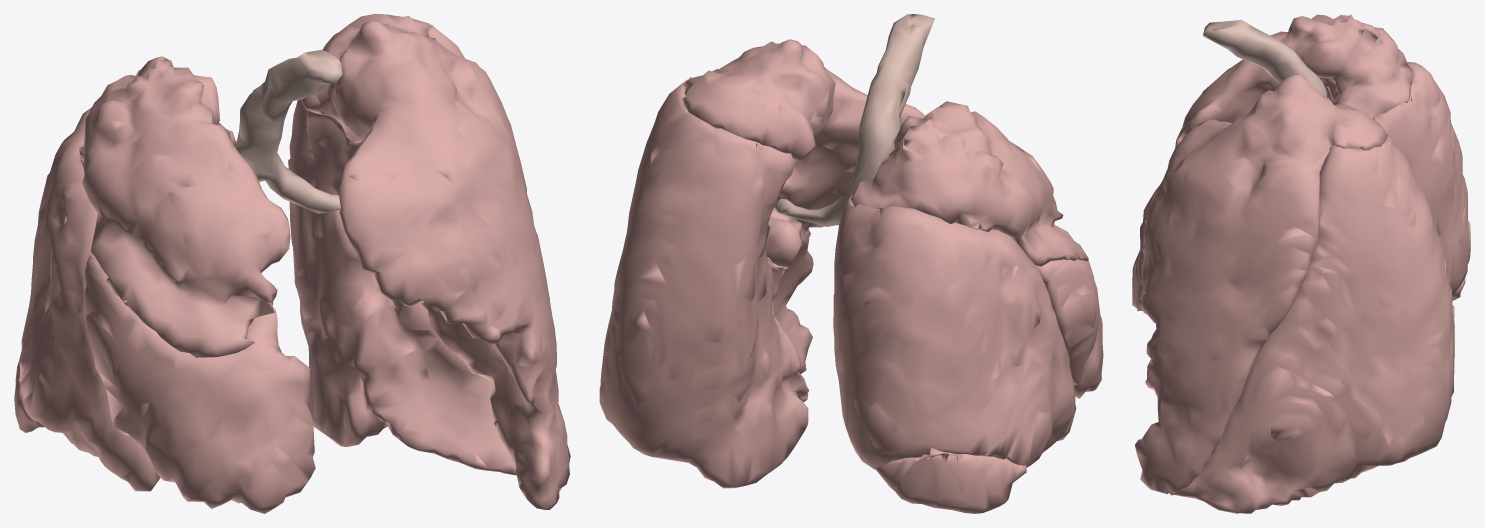
File: tsd_s0327_older_adult_male.respiratory.LOD3.glb
3 renders of one model, left to right at view 1: azimuth 30°, elevation 25°; view 2: azimuth 150°, elevation 25°; view 3: azimuth 270°, elevation 25°, orthographic. The views are drawn at different scales.
Visible parts, largest first — view 1: TSD_S0327.OLDER_ADULT.MALE.RESPIRATORY.SUPERIOR_LOBE_OF_LEFT, TSD_S0327.OLDER_ADULT.MALE.RESPIRATORY.SUPERIOR_LOBE_OF_RIGH, TSD_S0327.OLDER_ADULT.MALE.RESPIRATORY.INFERIOR_LOBE_OF_LEFT, TSD_S0327.OLDER_ADULT.MALE.RESPIRATORY.MIDDLE_LOBE_OF_RIGHT_, TSD_S0327.OLDER_ADULT.MALE.RESPIRATORY.INFERIOR_LOBE_OF_RIGH, TSD_S0327.OLDER_ADULT.MALE.RESPIRATORY.TRACHEA; view 2: TSD_S0327.OLDER_ADULT.MALE.RESPIRATORY.INFERIOR_LOBE_OF_LEFT, TSD_S0327.OLDER_ADULT.MALE.RESPIRATORY.INFERIOR_LOBE_OF_RIGH, TSD_S0327.OLDER_ADULT.MALE.RESPIRATORY.SUPERIOR_LOBE_OF_LEFT, TSD_S0327.OLDER_ADULT.MALE.RESPIRATORY.SUPERIOR_LOBE_OF_RIGH, TSD_S0327.OLDER_ADULT.MALE.RESPIRATORY.MIDDLE_LOBE_OF_RIGHT_, TSD_S0327.OLDER_ADULT.MALE.RESPIRATORY.TRACHEA; view 3: TSD_S0327.OLDER_ADULT.MALE.RESPIRATORY.INFERIOR_LOBE_OF_LEFT, TSD_S0327.OLDER_ADULT.MALE.RESPIRATORY.SUPERIOR_LOBE_OF_LEFT, TSD_S0327.OLDER_ADULT.MALE.RESPIRATORY.SUPERIOR_LOBE_OF_RIGH, TSD_S0327.OLDER_ADULT.MALE.RESPIRATORY.INFERIOR_LOBE_OF_RIGH, TSD_S0327.OLDER_ADULT.MALE.RESPIRATORY.TRACHEA, TSD_S0327.OLDER_ADULT.MALE.RESPIRATORY.MIDDLE_LOBE_OF_RIGHT_.
Part boxes in pixels (box(x1,y1,x2,y2)): TSD_S0327.OLDER_ADULT.MALE.RESPIRATORY.SUPERIOR_LOBE_OF_LEFT: box(302, 14, 570, 509); TSD_S0327.OLDER_ADULT.MALE.RESPIRATORY.SUPERIOR_LOBE_OF_RIGH: box(79, 56, 290, 357); TSD_S0327.OLDER_ADULT.MALE.RESPIRATORY.INFERIOR_LOBE_OF_LEFT: box(288, 24, 561, 491); TSD_S0327.OLDER_ADULT.MALE.RESPIRATORY.MIDDLE_LOBE_OF_RIGHT_: box(14, 255, 315, 513); TSD_S0327.OLDER_ADULT.MALE.RESPIRATORY.INFERIOR_LOBE_OF_RIGH: box(19, 107, 281, 491); TSD_S0327.OLDER_ADULT.MALE.RESPIRATORY.TRACHEA: box(235, 49, 342, 213); TSD_S0327.OLDER_ADULT.MALE.RESPIRATORY.INFERIOR_LOBE_OF_LEFT: box(599, 79, 809, 488); TSD_S0327.OLDER_ADULT.MALE.RESPIRATORY.INFERIOR_LOBE_OF_RIGH: box(833, 194, 1076, 469); TSD_S0327.OLDER_ADULT.MALE.RESPIRATORY.SUPERIOR_LOBE_OF_LEFT: box(682, 39, 925, 373); TSD_S0327.OLDER_ADULT.MALE.RESPIRATORY.SUPERIOR_LOBE_OF_RIGH: box(850, 101, 1088, 266); TSD_S0327.OLDER_ADULT.MALE.RESPIRATORY.MIDDLE_LOBE_OF_RIGHT_: box(876, 259, 1103, 513); TSD_S0327.OLDER_ADULT.MALE.RESPIRATORY.TRACHEA: box(774, 14, 934, 226); TSD_S0327.OLDER_ADULT.MALE.RESPIRATORY.INFERIOR_LOBE_OF_LEFT: box(1169, 136, 1454, 513); TSD_S0327.OLDER_ADULT.MALE.RESPIRATORY.SUPERIOR_LOBE_OF_LEFT: box(1135, 74, 1388, 494); TSD_S0327.OLDER_ADULT.MALE.RESPIRATORY.SUPERIOR_LOBE_OF_RIGH: box(1175, 14, 1412, 147); TSD_S0327.OLDER_ADULT.MALE.RESPIRATORY.INFERIOR_LOBE_OF_RIGH: box(1374, 62, 1470, 293); TSD_S0327.OLDER_ADULT.MALE.RESPIRATORY.TRACHEA: box(1203, 19, 1327, 97); TSD_S0327.OLDER_ADULT.MALE.RESPIRATORY.MIDDLE_LOBE_OF_RIGHT_: box(1132, 185, 1465, 311).
Bounding box in the file's own units: 0.2453 × 0.2376 × 0.1854.
